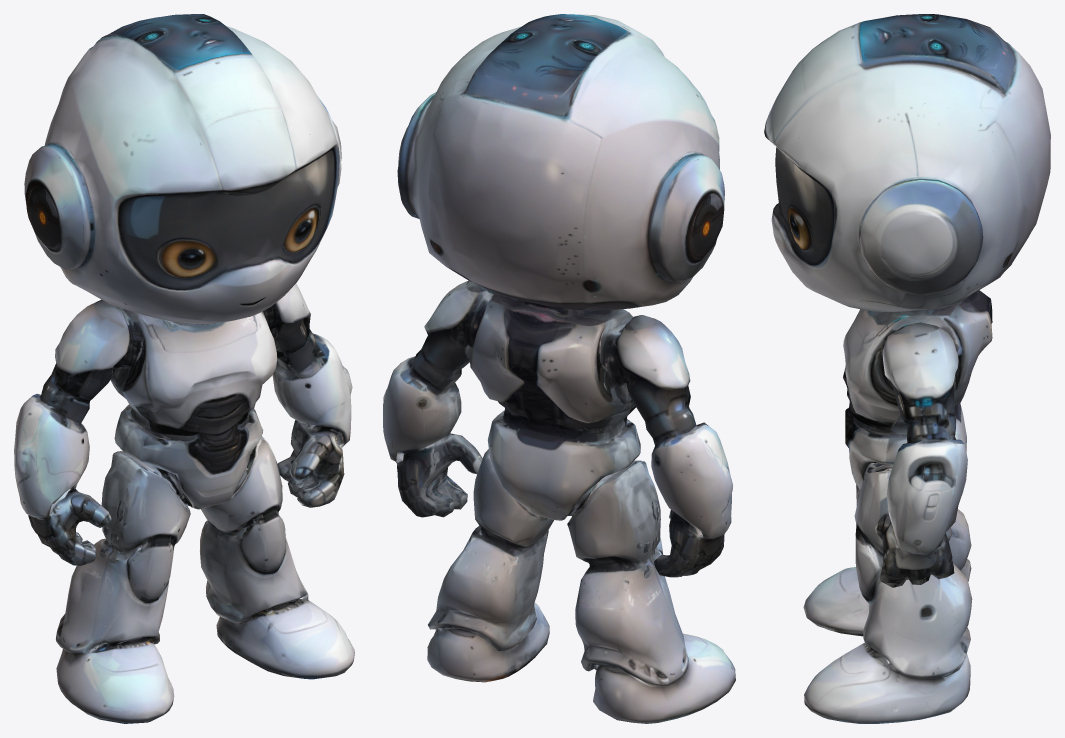
File: Meshy_AI_Create_a_cute_friend_0109191441_texture.glb
3 renders of one model, left to right at view 1: azimuth 30°, elevation 25°; view 2: azimuth 150°, elevation 25°; view 3: azimuth 270°, elevation 25°, orthographic. The views are drawn at different scales.
Visible parts, largest first — view 1: Mesh1.0; view 2: Mesh1.0; view 3: Mesh1.0.
Boxes of the visible parts, box(x1,y1,x2,y2) form: Mesh1.0: box(14, 14, 354, 723); Mesh1.0: box(383, 14, 735, 723); Mesh1.0: box(764, 14, 1050, 723).
Bounding box in the file's own units: 1.11 × 2 × 0.8252.
Materials: 1 (1 with a texture image).
